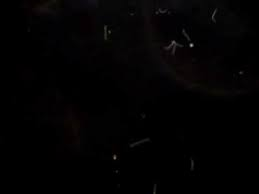sphyillis: (166, 29, 190, 53), (128, 135, 151, 145), (209, 8, 220, 23), (185, 157, 194, 170), (103, 26, 109, 40)
